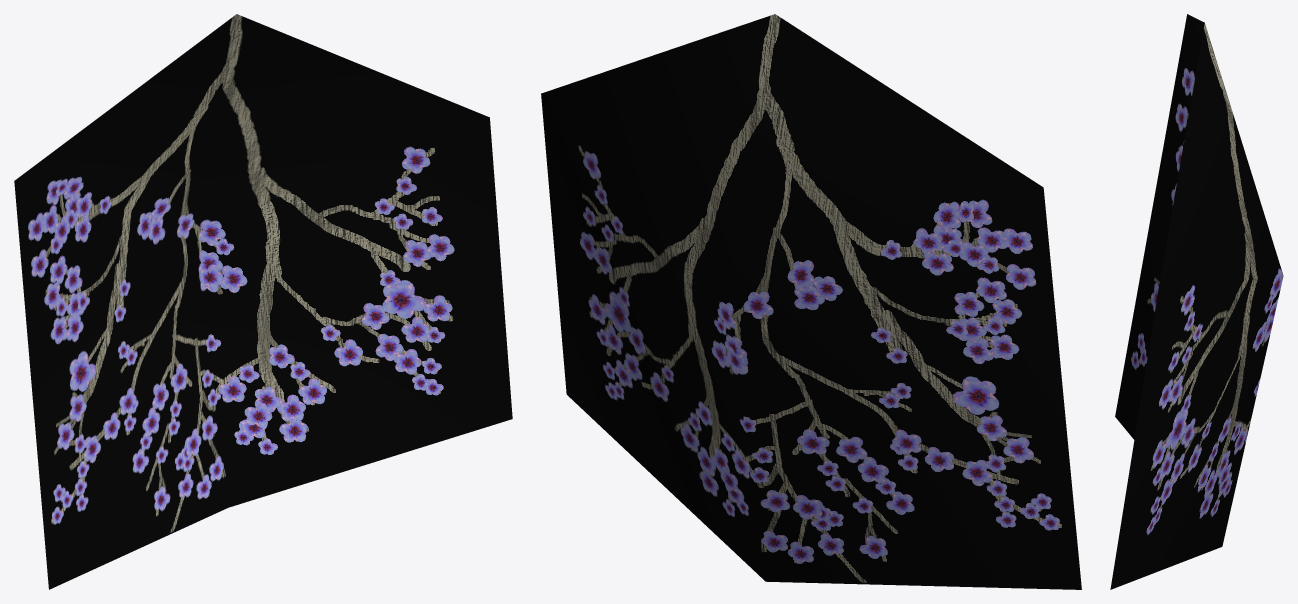
Rendered from LeafMesh15.fbx.
3 renders of one model, left to right at view 1: azimuth 30°, elevation 25°; view 2: azimuth 150°, elevation 25°; view 3: azimuth 270°, elevation 25°, orthographic. The views are drawn at different scales.
Visible parts, largest first — view 1: LeafMesh1; view 2: LeafMesh1; view 3: LeafMesh1.
Part boxes in pixels (x1=…): LeafMesh1: x1=14, y1=14, x2=512, y2=589; LeafMesh1: x1=541, y1=14, x2=1081, y2=589; LeafMesh1: x1=1110, y1=14, x2=1283, y2=589.
Size of the model in its own units: 2 by 2.07 by 0.6195.
